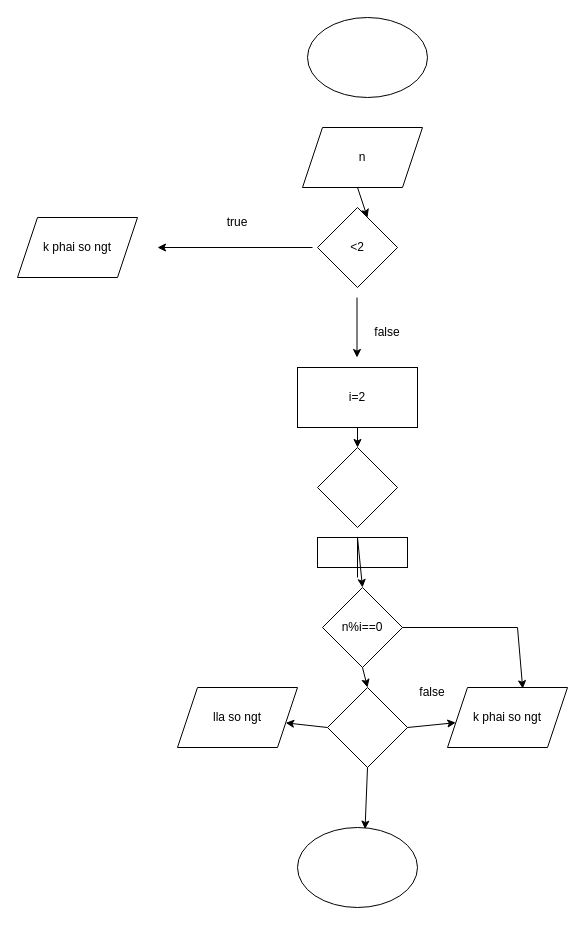
Some shapes in this 585 by 925 pixel diagram are drawn without their labels. Here are the shapes that lost their labels. From the top down, the centre of each, then its label:
At point (367, 57): "start".
At point (357, 487): "i<=sqrt(n)".
At point (362, 552): "mảk=1".
At point (367, 727): "mark=1".
